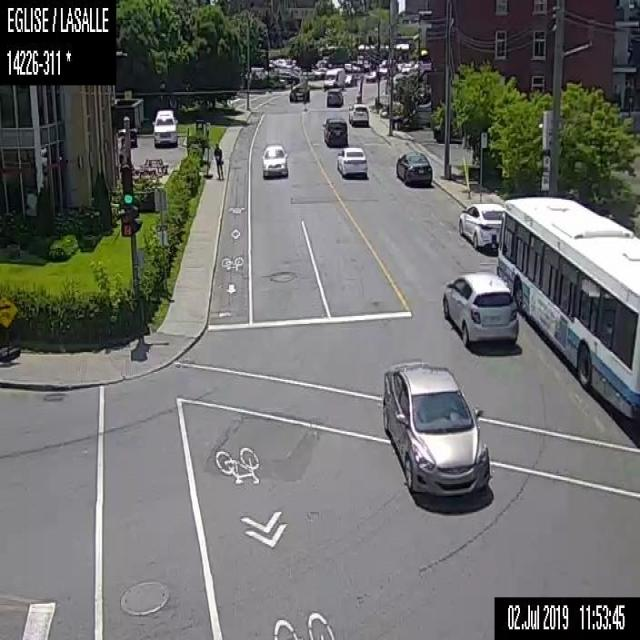bus: (495, 196, 639, 420)
pedestrian: (212, 142, 224, 182)
vehicle: (381, 356, 490, 492), (441, 270, 520, 352), (459, 202, 505, 254), (394, 148, 432, 187), (150, 106, 179, 150), (260, 140, 288, 179), (335, 144, 367, 178), (320, 114, 349, 146), (347, 103, 369, 128), (286, 81, 310, 103), (322, 67, 346, 89), (323, 88, 344, 106), (364, 68, 382, 84)
